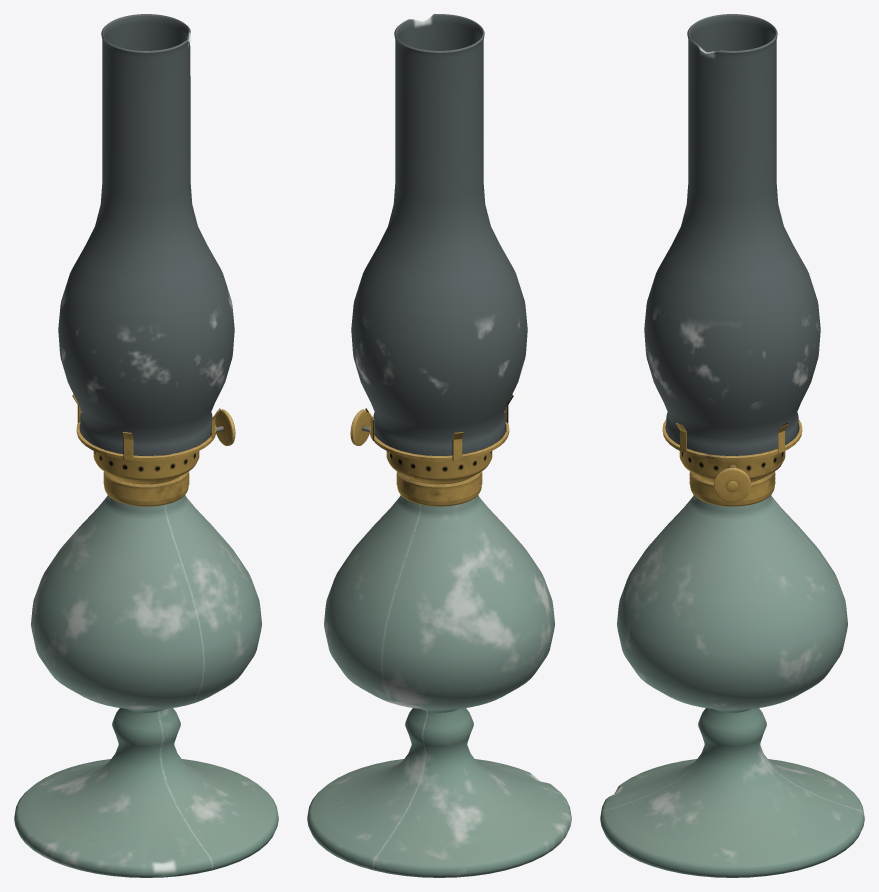
File: OilLamp.fbx
The picture shows the model from 3 angles, left to right: view 1: azimuth 30°, elevation 25°; view 2: azimuth 150°, elevation 25°; view 3: azimuth 270°, elevation 25°; orthographic projection.
Parts seen in each view (by area): view 1: OilLamp_Fount, OilLamp_Chimney, OilLamp_Burner, OilLamp_Wheel; view 2: OilLamp_Fount, OilLamp_Chimney, OilLamp_Burner, OilLamp_Wheel; view 3: OilLamp_Fount, OilLamp_Chimney, OilLamp_Burner, OilLamp_Wheel.
Part boxes in pixels (x1,y1,x2,y2): OilLamp_Fount: (14, 495, 278, 877); OilLamp_Chimney: (58, 14, 234, 455); OilLamp_Burner: (72, 394, 223, 506); OilLamp_Wheel: (215, 409, 235, 445); OilLamp_Fount: (307, 495, 571, 877); OilLamp_Chimney: (351, 14, 527, 455); OilLamp_Burner: (362, 394, 513, 506); OilLamp_Wheel: (350, 409, 370, 445); OilLamp_Fount: (600, 495, 864, 877); OilLamp_Chimney: (644, 14, 820, 455); OilLamp_Burner: (662, 419, 802, 506); OilLamp_Wheel: (714, 467, 750, 502).
Bounding box in the file's own units: 0.6 × 1.98 × 0.6.
Materials: 2 (2 with a texture image).
